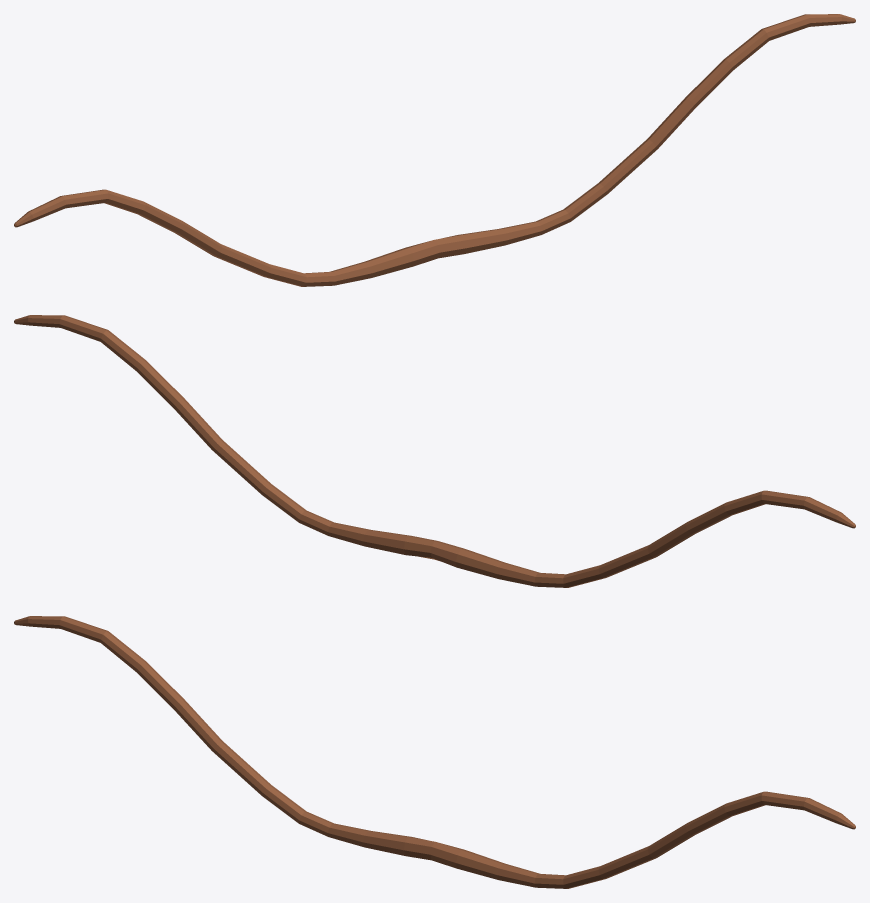
File: bow.fbx
3 renders of one model, top to bottom at view 1: azimuth 30°, elevation 25°; view 2: azimuth 150°, elevation 25°; view 3: azimuth 330°, elevation 25°, orthographic.
Parts seen in each view (by area): view 1: Cube; view 2: Cube; view 3: Cube.
Part boxes in pixels (x1,y1,x2,y2): Cube: [14, 14, 855, 286]; Cube: [14, 315, 855, 587]; Cube: [14, 616, 855, 888].
Bounding box in the file's own units: 478 × 84.88 × 10.14.
